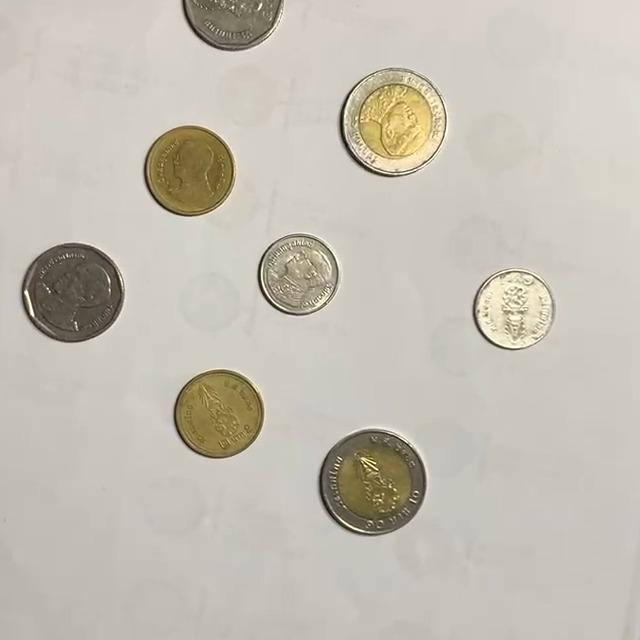1-baht: (473, 269, 558, 351), (258, 234, 341, 316)
10-baht: (340, 66, 449, 176), (320, 429, 428, 536)
2-baht: (144, 126, 236, 217), (174, 370, 265, 459)
5-baht: (22, 242, 127, 343), (181, 0, 284, 52)
